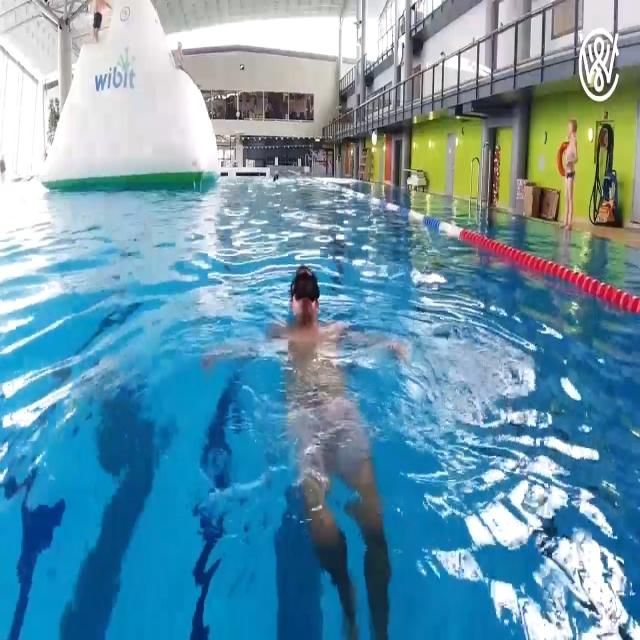Swimming: (270, 262, 346, 388)
